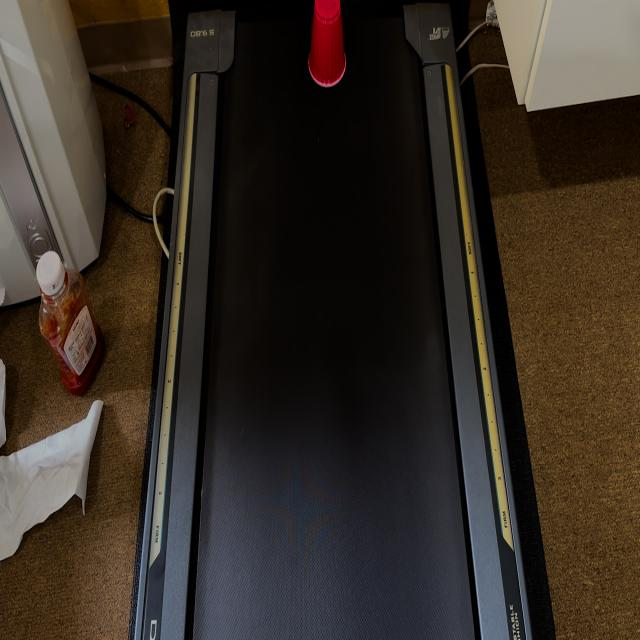Recycle: (306, 0, 346, 89)
